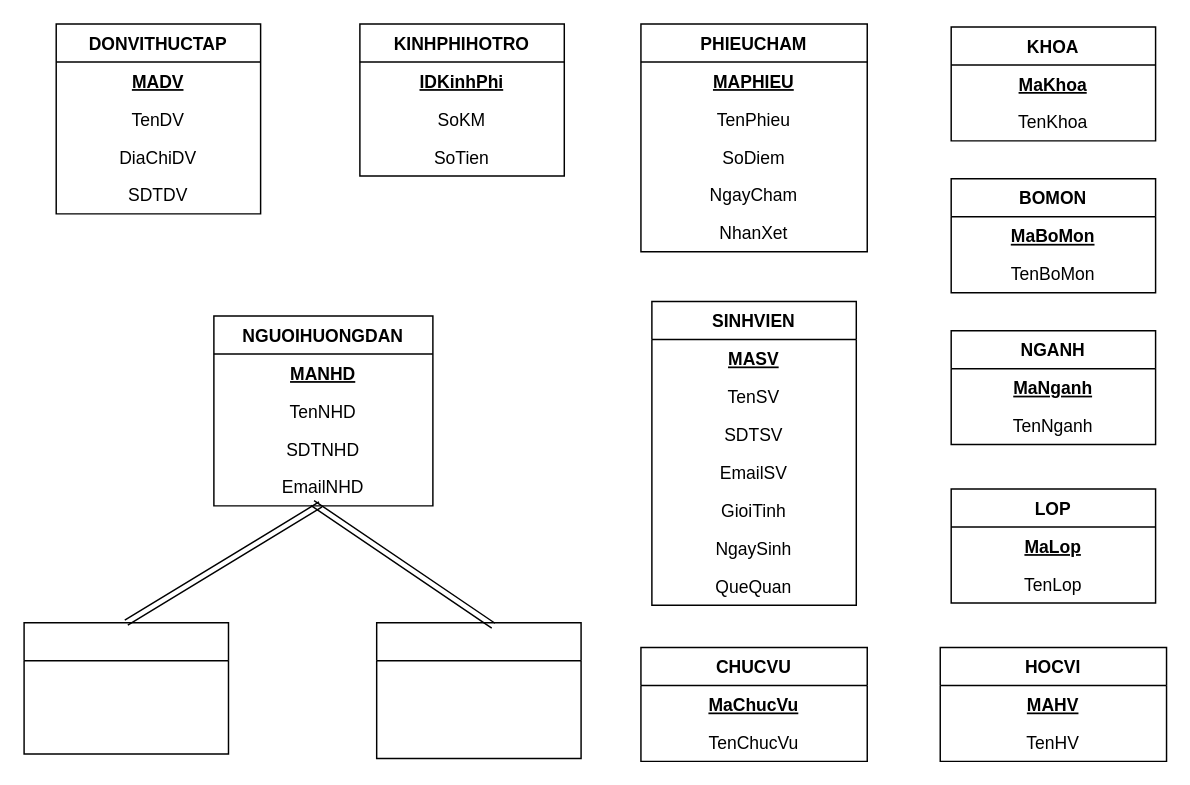
This 1190x785 diagram has some shape labels left out. Here are the shapes that lost their labels. From the top down, the centre of each, then its label:
At point 125,687: "CANBODONVI".
At point 478,689: "GIANGVIEN".
